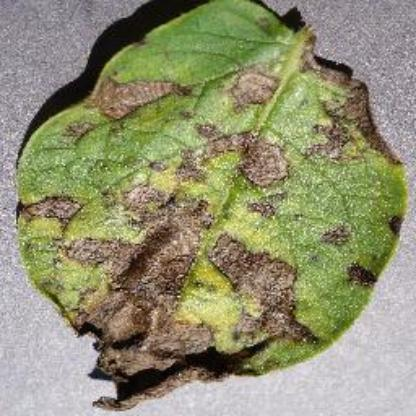Early-Blight: (14, 0, 404, 408)
